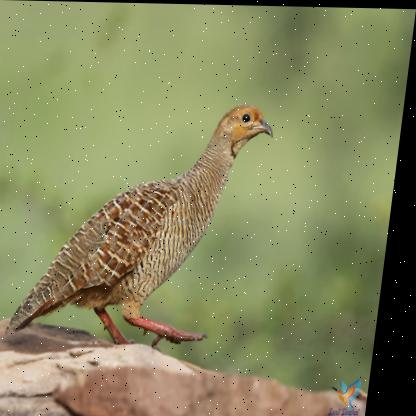Burung: (12, 98, 278, 350)
